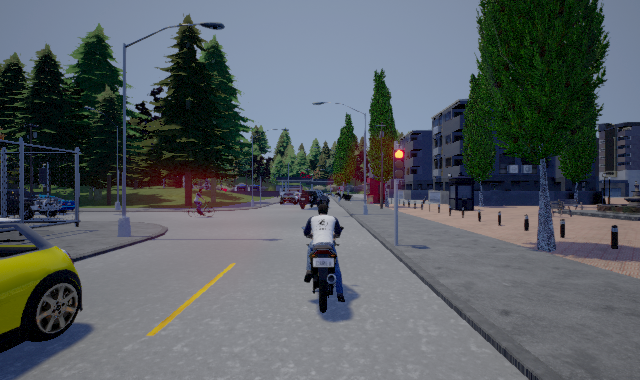bike: (188, 189, 215, 218)
motobike: (300, 203, 347, 318)
traffic_light: (393, 144, 404, 185)
vehicle: (1, 218, 83, 353), (300, 189, 330, 208)
